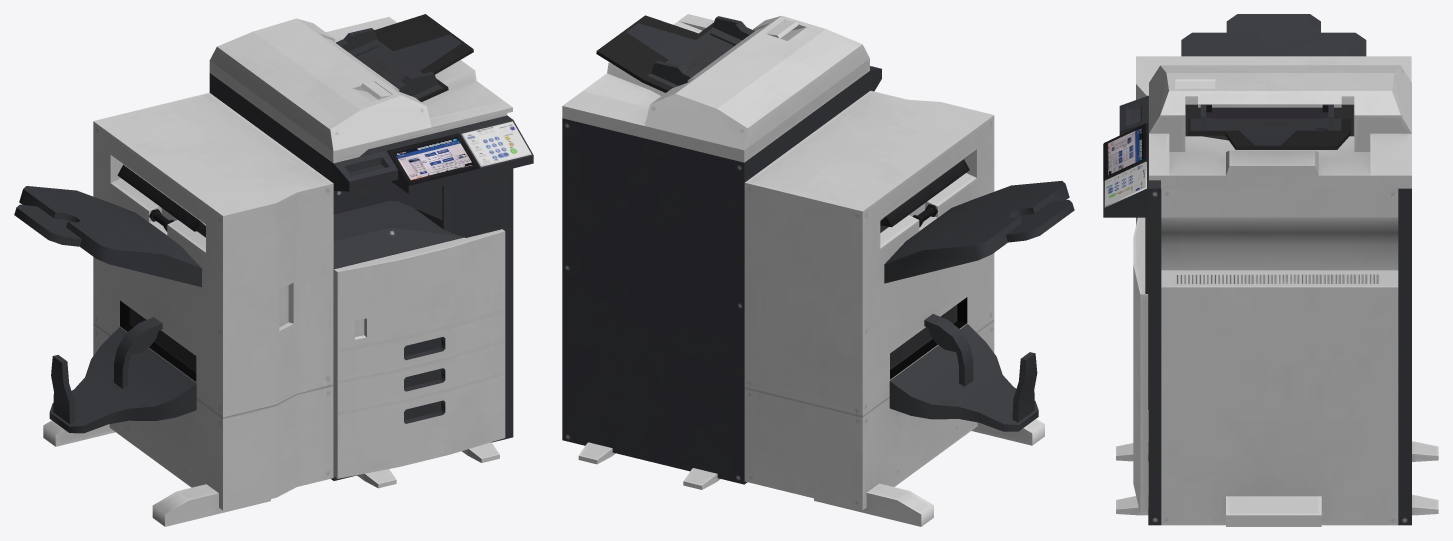
Rendered from copy_machine.glb.
The picture shows the model from 3 angles, left to right: view 1: azimuth 30°, elevation 25°; view 2: azimuth 150°, elevation 25°; view 3: azimuth 270°, elevation 25°; orthographic projection. The views are drawn at different scales.
Parts seen in each view (by area): view 1: defaultMaterial.001_mesh, defaultMaterial_mesh; view 2: defaultMaterial.001_mesh, defaultMaterial_mesh; view 3: defaultMaterial.001_mesh, defaultMaterial_mesh.
Boxes of the visible parts, left/top/right/bottom form: defaultMaterial.001_mesh: left=14, top=17, right=533, bottom=526; defaultMaterial_mesh: left=374, top=14, right=473, bottom=101; defaultMaterial.001_mesh: left=562, top=14, right=1074, bottom=526; defaultMaterial_mesh: left=596, top=15, right=713, bottom=92; defaultMaterial.001_mesh: left=1103, top=14, right=1438, bottom=526; defaultMaterial_mesh: left=1188, top=118, right=1350, bottom=149.
Bounding box in the file's own units: 1.6 × 1.24 × 0.9771.
Materials: 2 (1 with a texture image).
